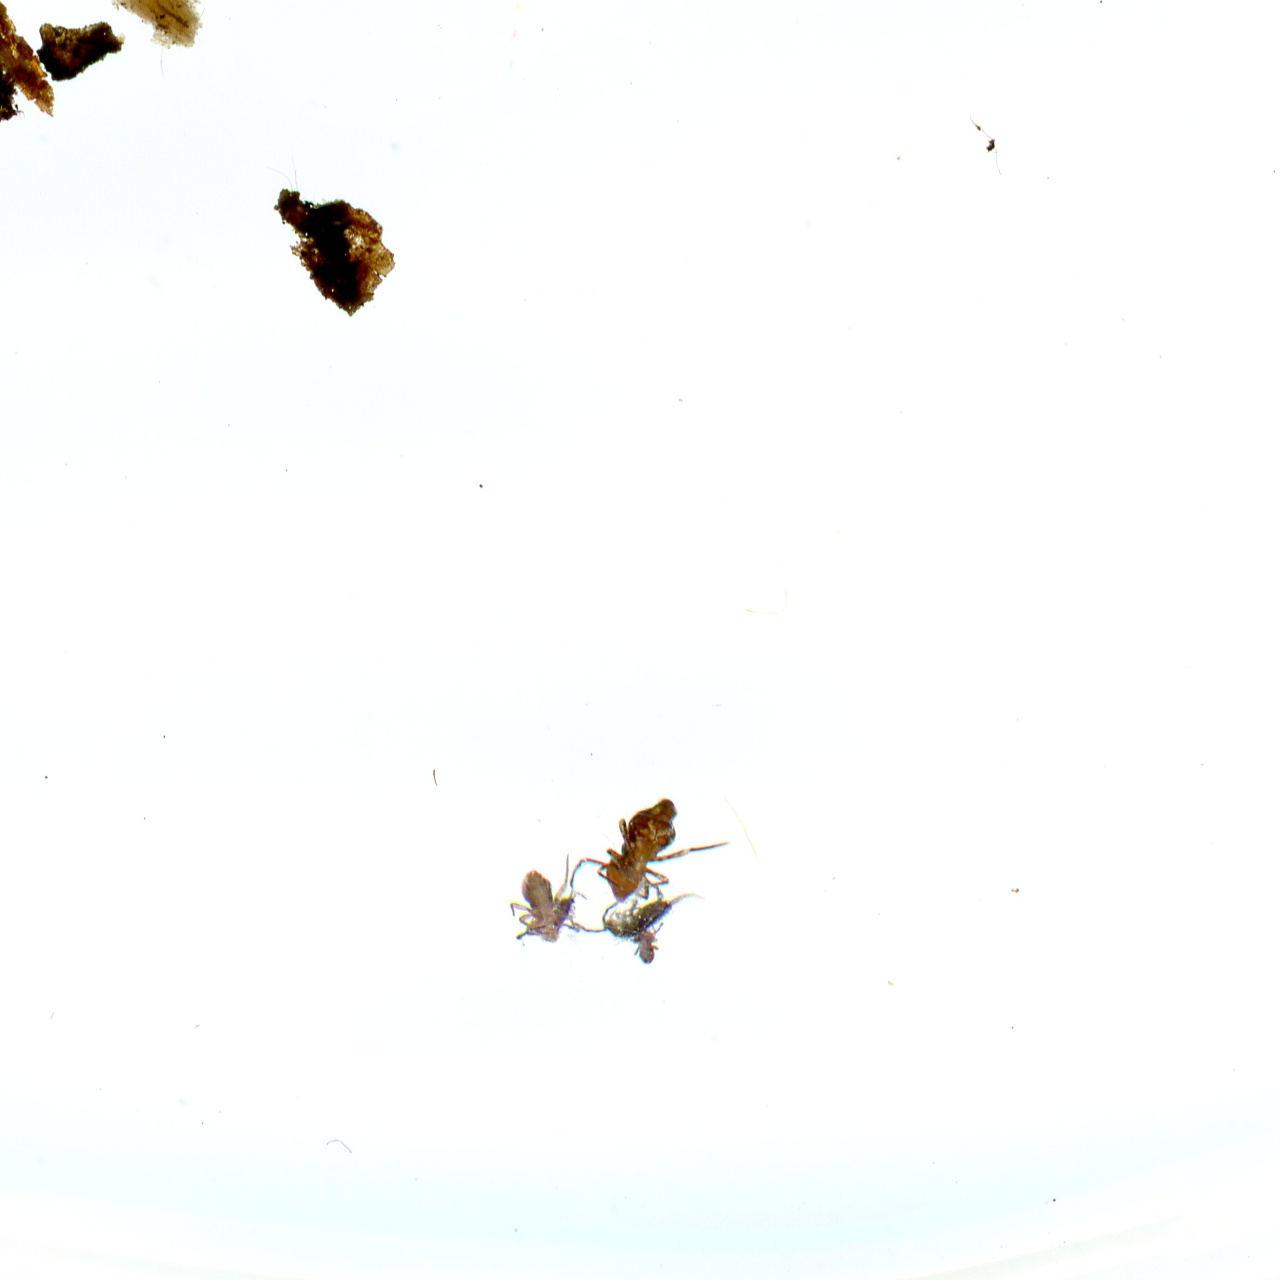arthropod: (567, 791, 738, 907), (563, 887, 710, 942), (508, 850, 576, 947), (632, 920, 666, 966)
